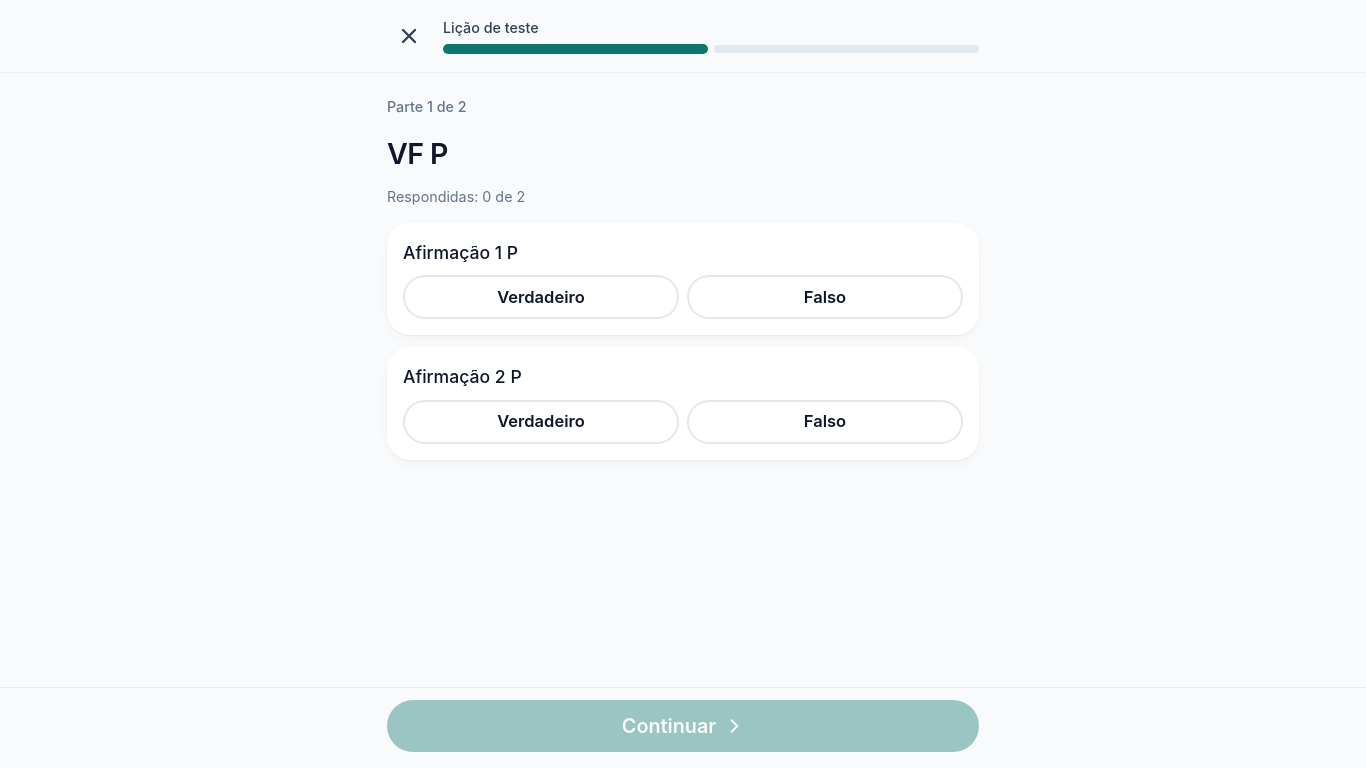
Test case: LessonRunner: estado não vaza entre telas › dois objetos trueFalse em sequência: o segundo nasce sem respostas
The image size is (1366, 768).
Expected: the button "Continuar" is disabled, [387,700,979,752]
Click the button "Verdadeiro" below "Afirmação 1 P". click: point(541, 298)
box: [403,276,679,320]
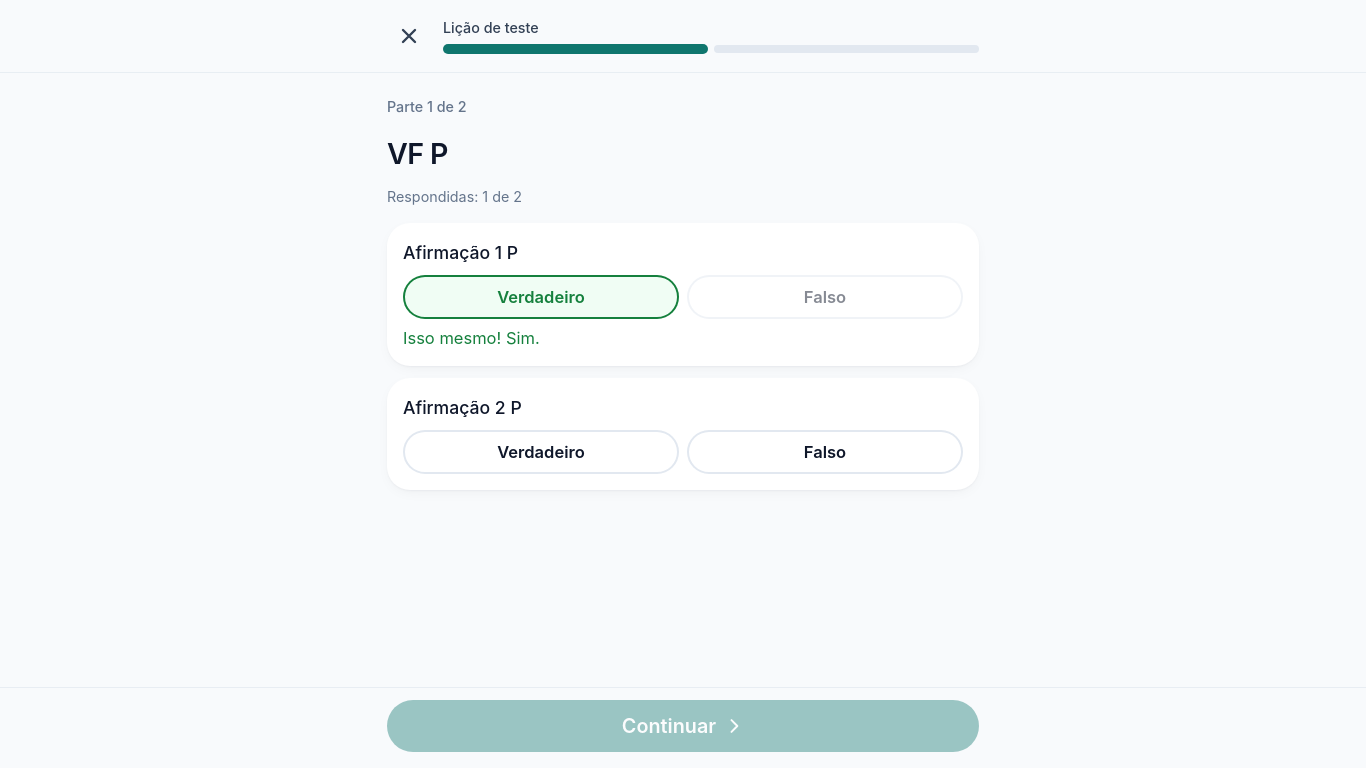
Click the button "Verdadeiro" below "Afirmação 2 P". click: point(541, 452)
box: [403,430,679,474]
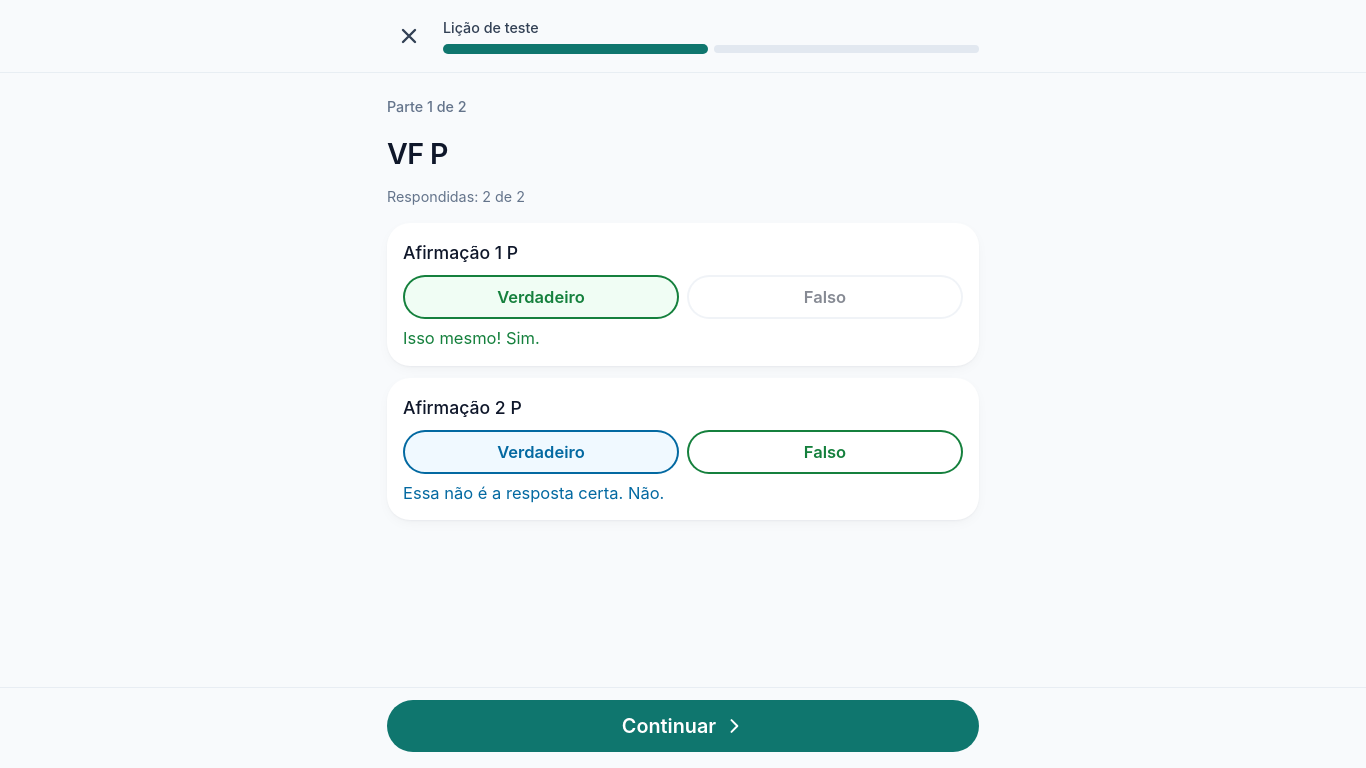
Expected: the button "Continuar" is enabled
Click the button "Continuar". click: point(683, 726)
box: [387,700,979,752]
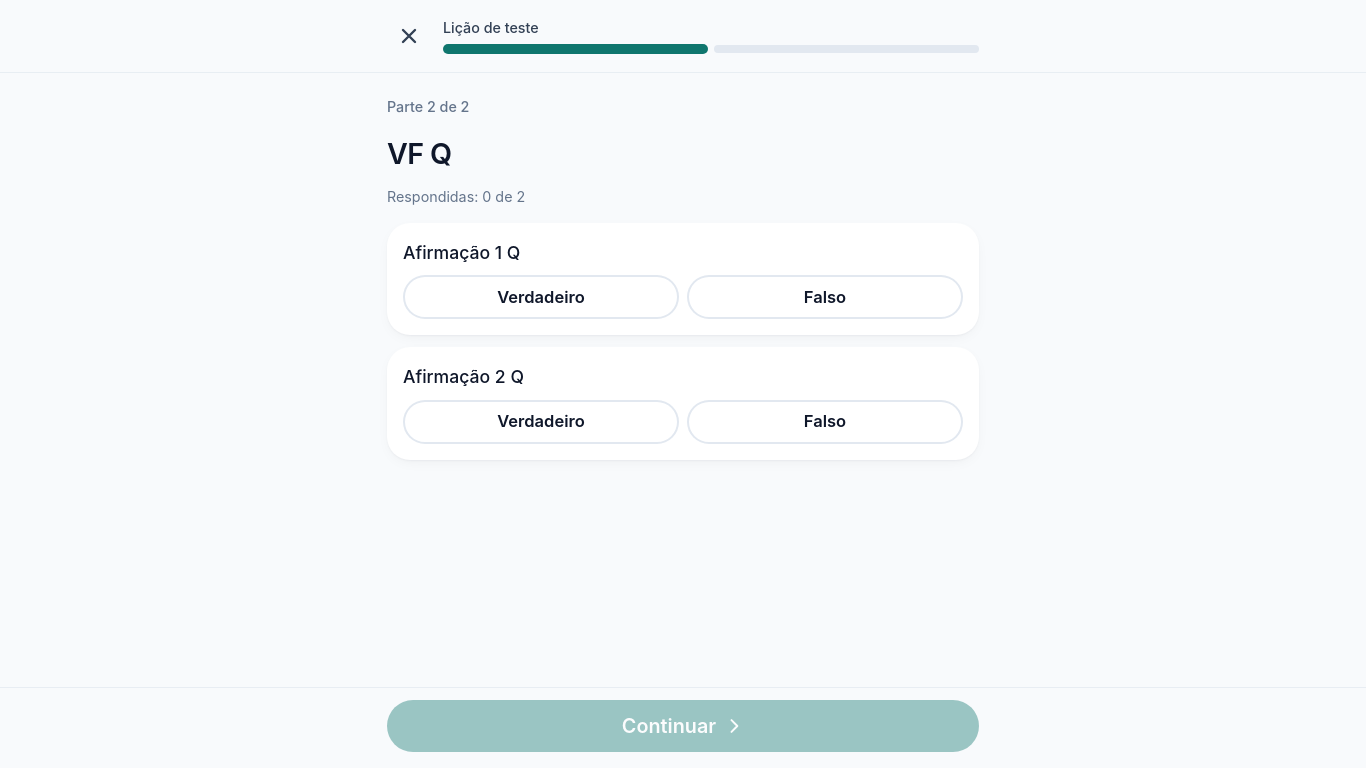
Expected: the heading "VF Q" is shown, [387,136,452,171]
Expected: no messages are shown
Expected: the button "Continuar" is disabled, [387,700,979,752]
